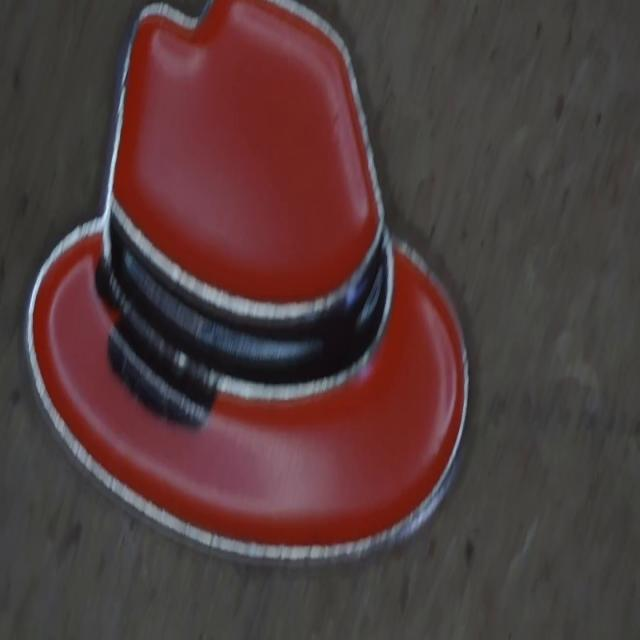Hatband: (110, 202, 391, 384)
Paint_Leak: (98, 258, 219, 426)
RedHatPin: (26, 2, 468, 559)
